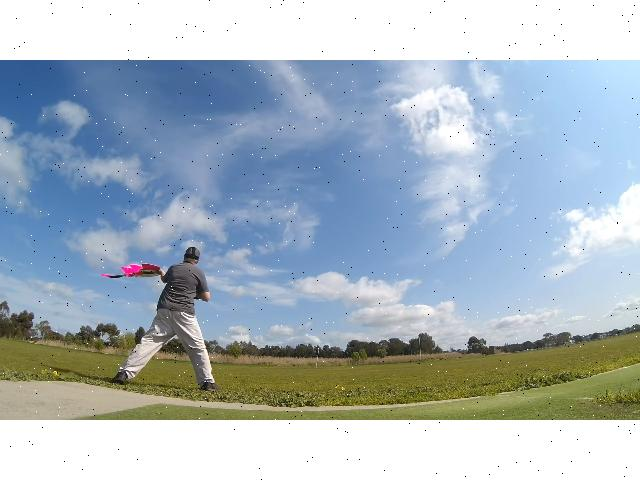Anti-Drone: (97, 244, 179, 296)
